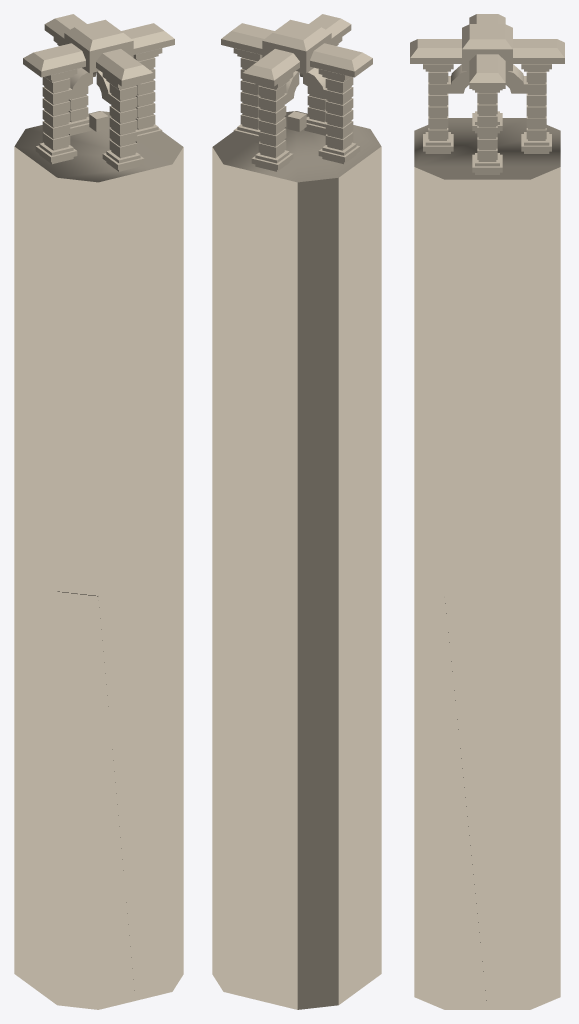
File: TourV1.1.fbx
3 views of the same model, side by side, from view 1: azimuth 30°, elevation 25°; view 2: azimuth 150°, elevation 25°; view 3: azimuth 270°, elevation 25° (orthographic).
Parts seen in each view (by area): view 1: Base, Cube_9_2, Cube_9, Cube_5, Tube; view 2: Base, Cube_9_2, Cube_9, Cube_5, Tube; view 3: Base, Cube_9, Cube_5, Cube_9_2, Tube_3, Tube_4.
Boxes of the visible parts, <box> form: Base: <box>14,111,183,1009</box>; Cube_9_2: <box>23,23,174,77</box>; Cube_9: <box>44,14,153,86</box>; Cube_5: <box>64,19,133,73</box>; Tube: <box>69,67,92,99</box>; Base: <box>212,111,381,1009</box>; Cube_9_2: <box>221,23,372,77</box>; Cube_9: <box>242,14,351,86</box>; Cube_5: <box>262,19,331,73</box>; Tube: <box>303,67,326,99</box>; Base: <box>414,118,560,1009</box>; Cube_9: <box>410,39,564,63</box>; Cube_5: <box>462,24,512,71</box>; Cube_9_2: <box>469,14,505,88</box>; Tube_3: <box>448,64,469,93</box>; Tube_4: <box>505,64,526,93</box>.
Bounding box in the file's own units: 1226 × 8284 × 1226.
